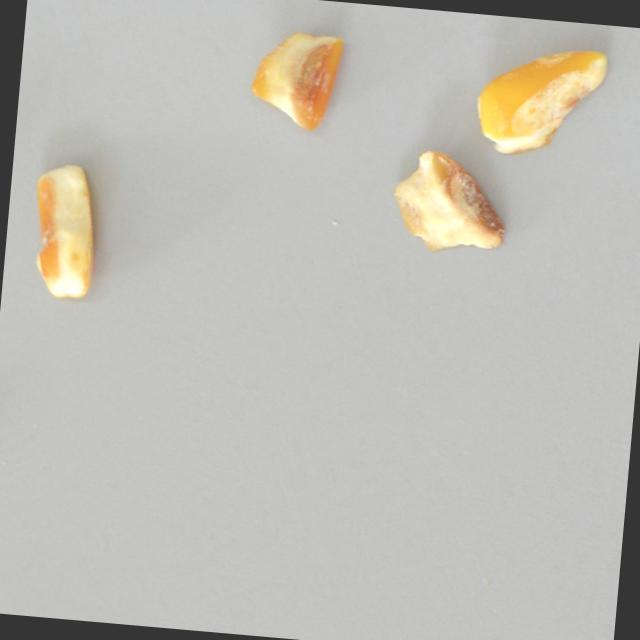dañado: (471, 37, 612, 161), (390, 143, 512, 256), (244, 21, 347, 135), (24, 159, 105, 300)
